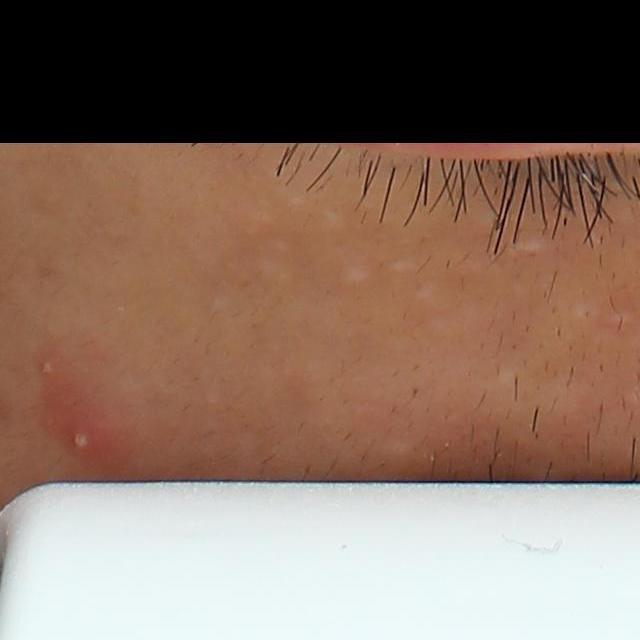hypertrophic_scar: (506, 231, 561, 257), (249, 258, 293, 288), (335, 261, 378, 290), (562, 298, 603, 323), (282, 192, 313, 216), (384, 257, 423, 276), (407, 282, 441, 302), (322, 207, 348, 226)
pustule: (62, 412, 112, 460)
